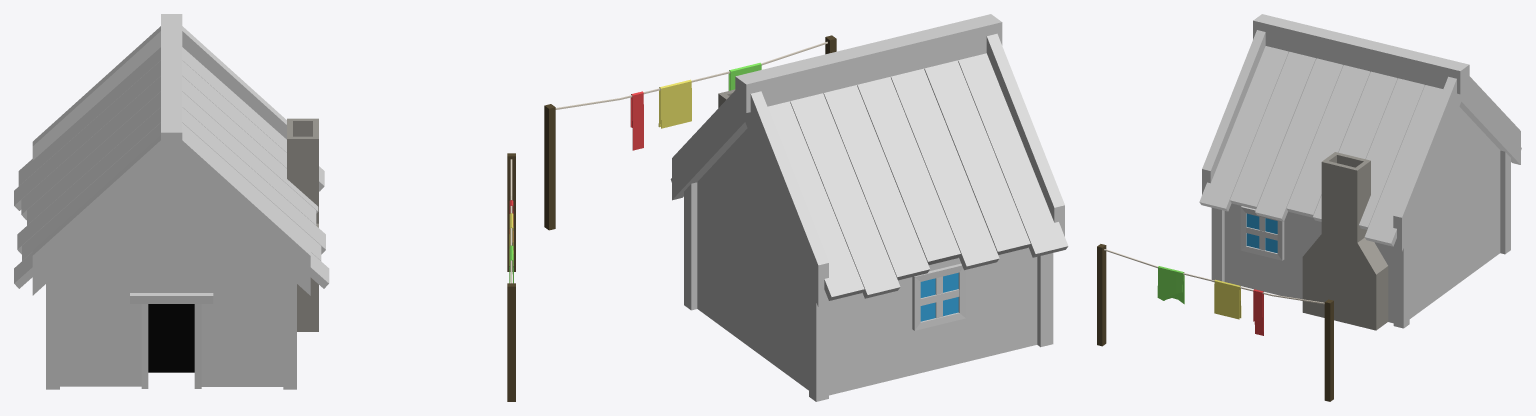
File: house_and_clothesline.glb
The picture shows the model from 3 angles, left to right: view 1: azimuth 30°, elevation 25°; view 2: azimuth 150°, elevation 25°; view 3: azimuth 270°, elevation 25°; orthographic projection. The views are drawn at different scales.
Parts seen in each view (by area): view 1: casa, varal; view 2: casa, varal; view 3: casa, varal.
Boxes of the visible parts, left/top/right/bottom form: casa: left=14, top=14, right=329, bottom=389; varal: left=507, top=153, right=515, bottom=401; casa: left=670, top=14, right=1068, bottom=401; varal: left=544, top=35, right=836, bottom=230; casa: left=1199, top=14, right=1521, bottom=330; varal: left=1097, top=244, right=1333, bottom=401.
Bounding box in the file's own units: 9.06 × 4.53 × 7.81.
